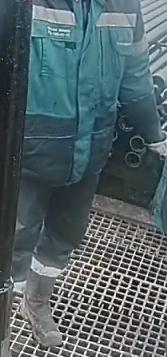gloves: (139, 129, 167, 161)
vest: (20, 0, 147, 183)
